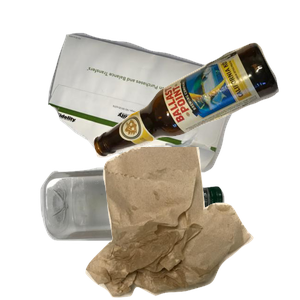glass: (91, 40, 300, 190)
paper: (45, 30, 281, 195)
plastic: (38, 165, 255, 300)
trash: (83, 147, 300, 300)
